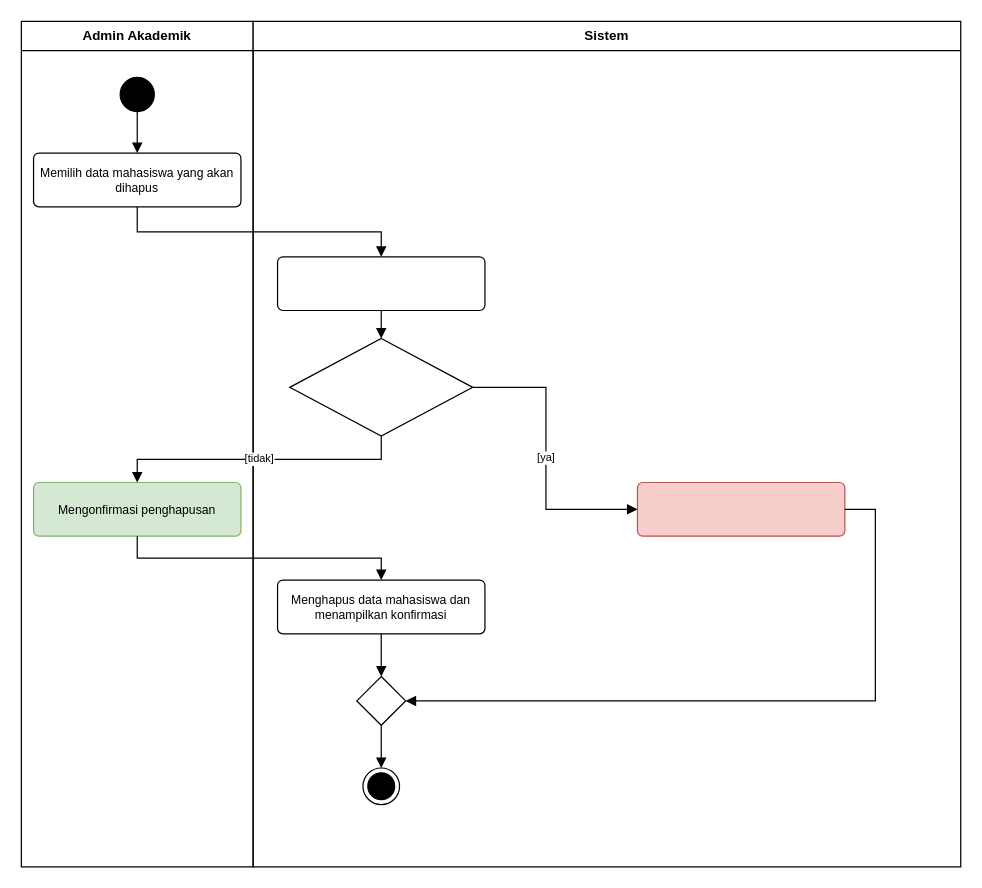
This 982x888 diagram has some shape labels left out. Here are the shapes that lost their labels. From the top down, the box of each, then its label:
(276, 256, 485, 310): Memeriksa tidak ada data akademik aktif
(289, 337, 473, 436): Data akademik aktif?
(636, 481, 845, 536): Menolak penghapusan, data akademik masih aktif
